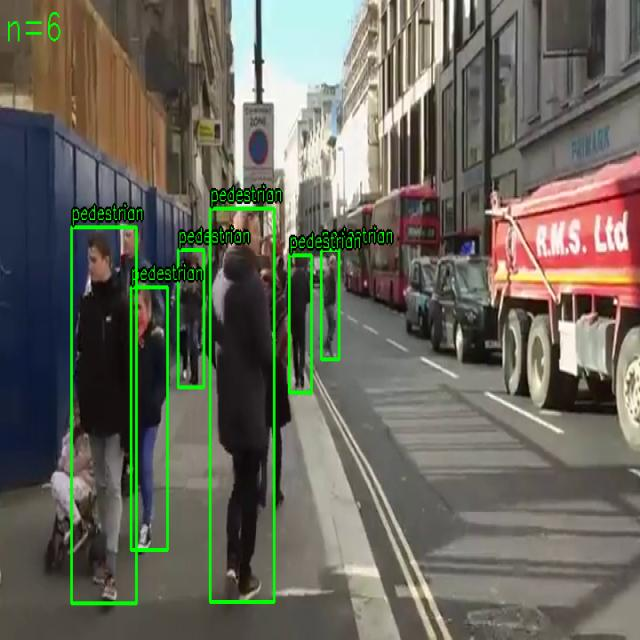with scooter: (210, 208, 274, 603), (71, 227, 137, 604), (131, 286, 168, 550), (178, 249, 204, 388), (289, 255, 312, 393), (321, 249, 339, 360)
